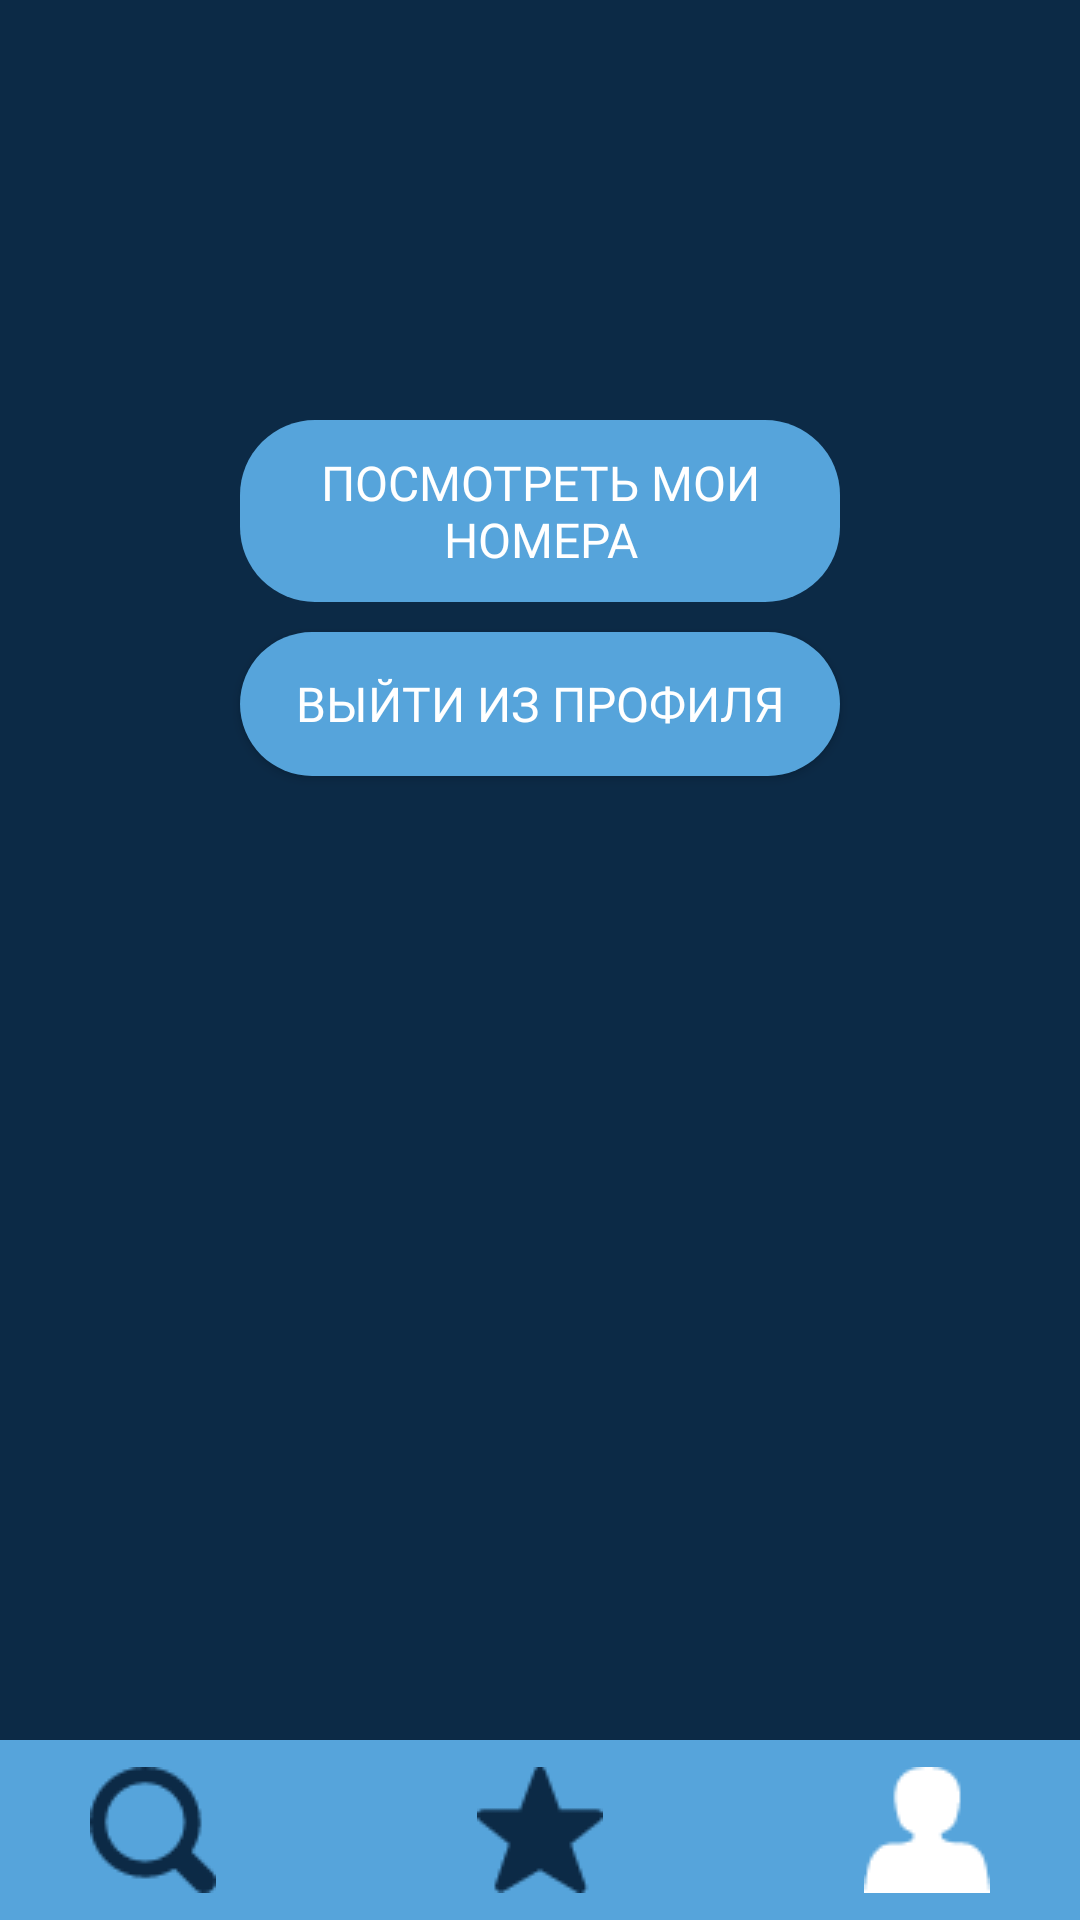

Icons on this 1080 × 1920 Android screen, each with its box as (x1=x1, y1=y1, x2=x2, y2=y2):
searchhint: (x1=90, y1=1767, x2=216, y2=1893)
star: (x1=477, y1=1767, x2=603, y2=1893)
userhint: (x1=864, y1=1767, x2=990, y2=1893)
